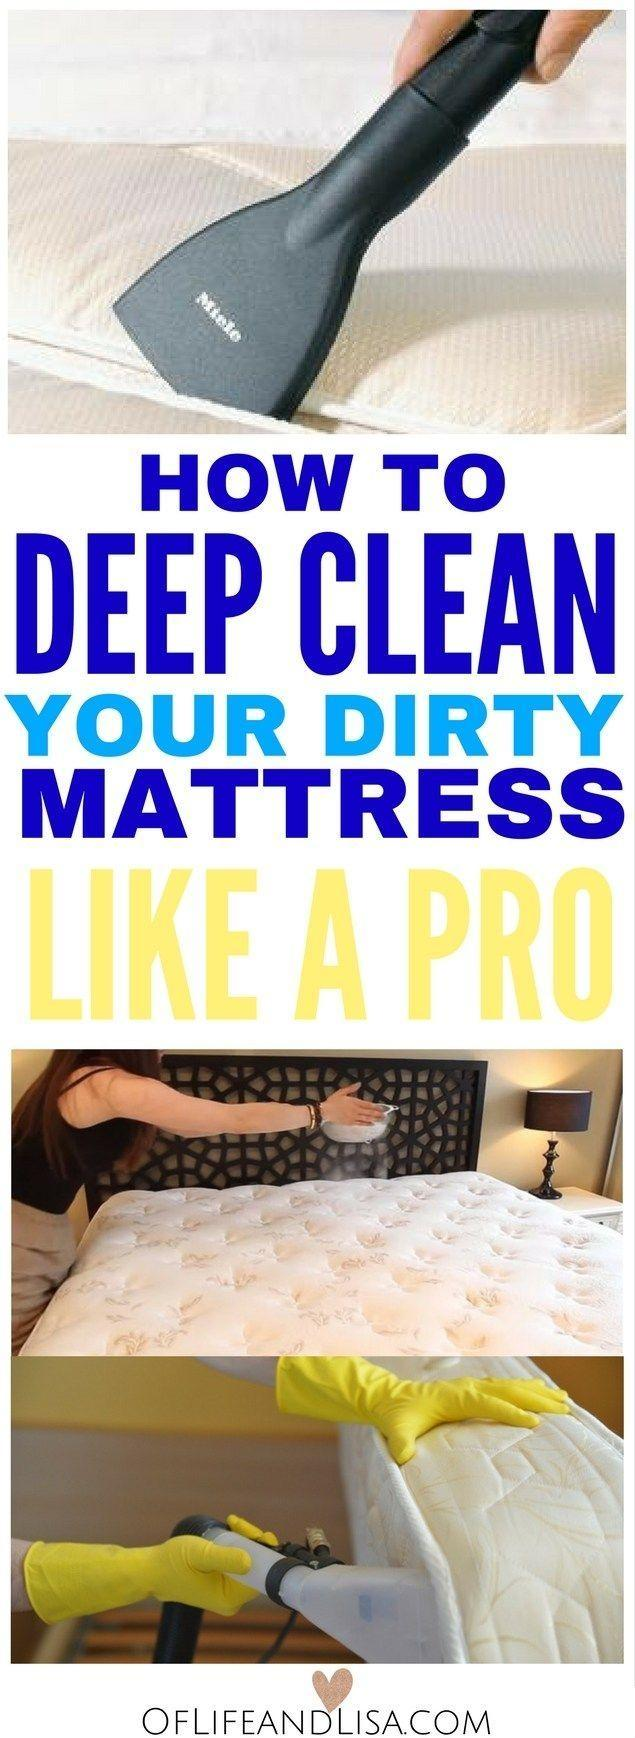Bed-Mattress: (21, 1174, 622, 1359)
